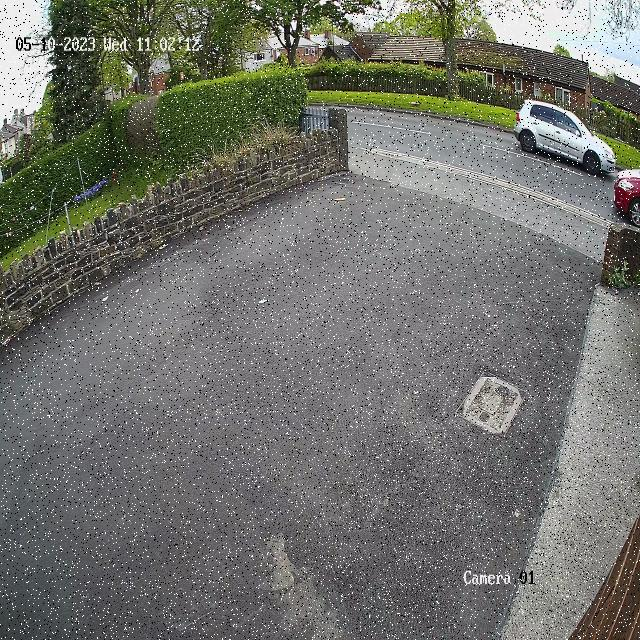vehicle: (512, 84, 618, 180), (608, 164, 640, 239)
